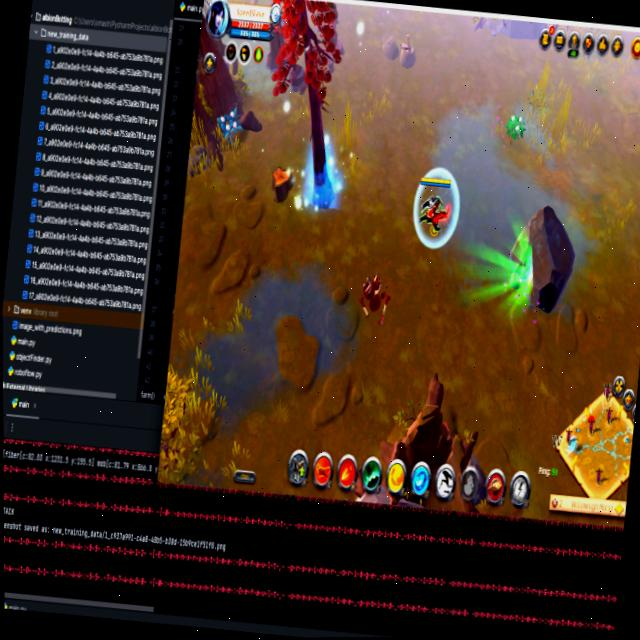hide: (215, 106, 239, 147), (503, 106, 527, 144)
red: (410, 167, 457, 245)
wisp caged: (252, 0, 357, 211)
